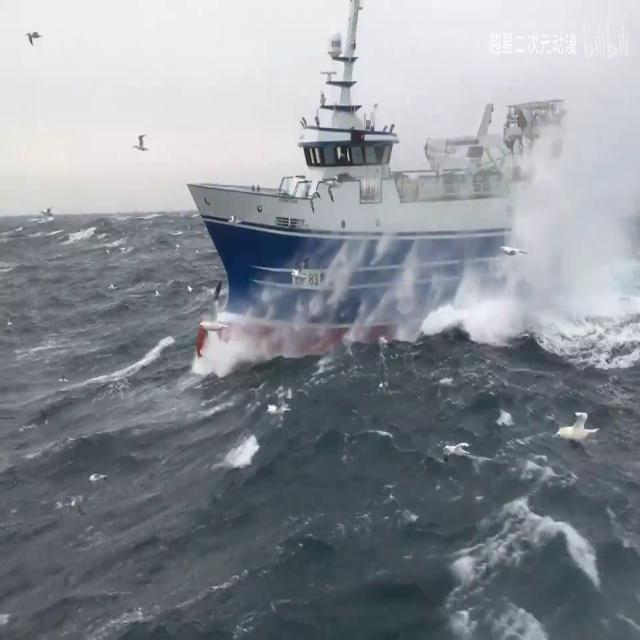houseboat: (181, 0, 570, 391)
